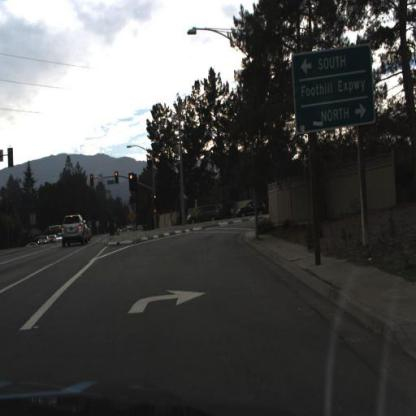car: (61, 213, 88, 247), (188, 203, 222, 228), (236, 199, 267, 222)
trafficLight-Red: (114, 171, 120, 186), (130, 175, 135, 191), (154, 195, 159, 206)
trafficLight-RedLeft: (90, 173, 95, 188)
